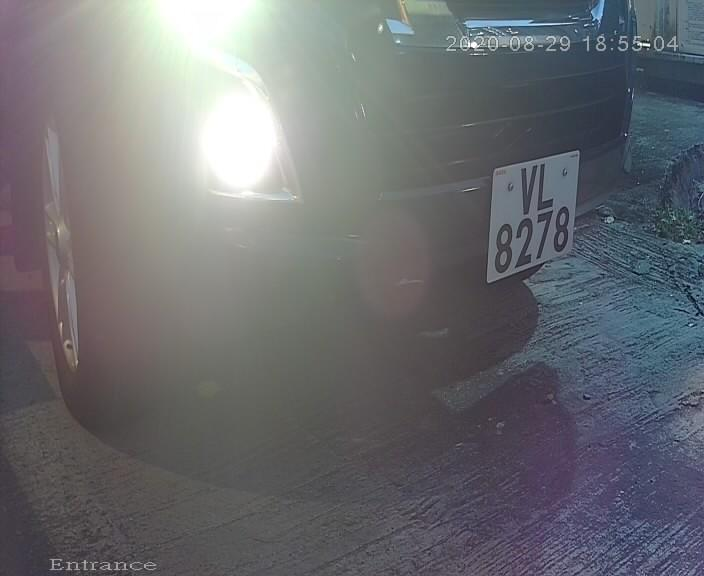License Plate: (478, 132, 582, 294)
